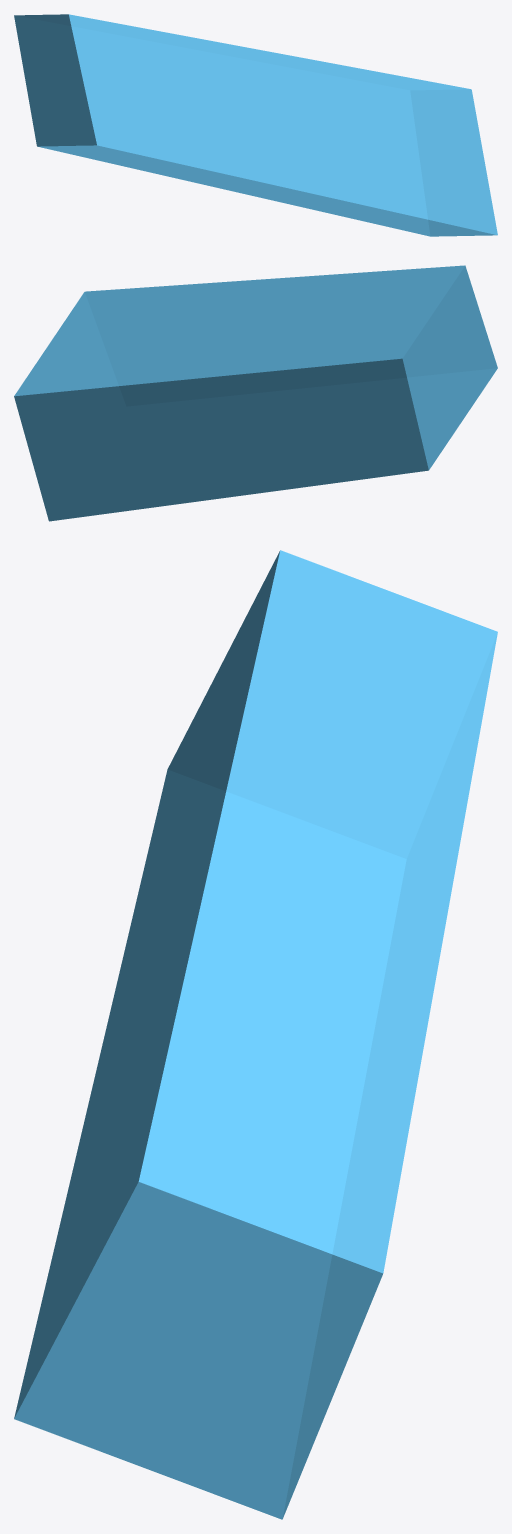
Rendered from Event_420107950_HErechit_16.fbx.
3 views of the same model, one above another, from view 1: azimuth 30°, elevation 25°; view 2: azimuth 150°, elevation 25°; view 3: azimuth 270°, elevation 25° (orthographic). The views are drawn at different scales.
Parts seen in each view (by area): view 1: Model; view 2: Model; view 3: Model.
Boxes of the visible parts, x1,y1,x2,y2 form: Model: [14, 14, 497, 236]; Model: [14, 265, 497, 521]; Model: [14, 550, 497, 1519].
Size of the model in its own units: 1.26 by 1.02 by 0.7246.
